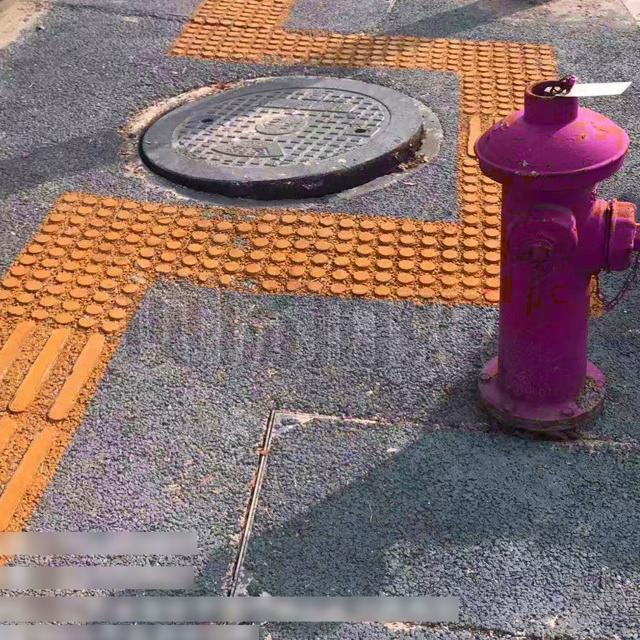uncovered: (130, 62, 459, 211)
